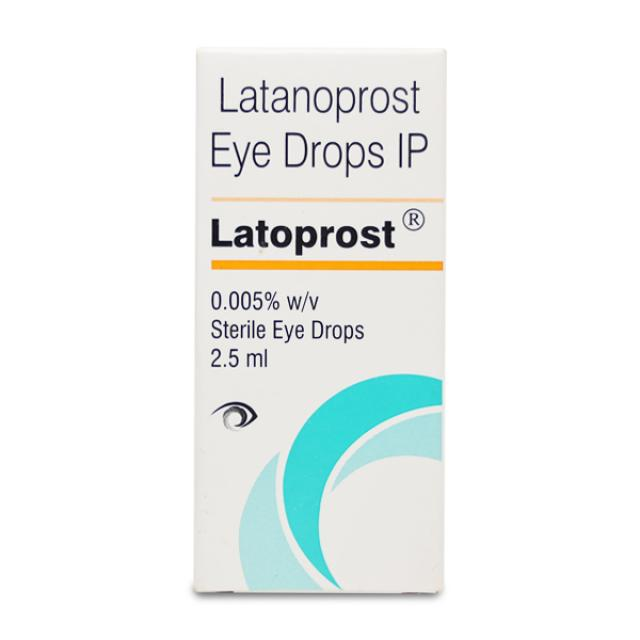Medicine-name: (209, 72, 438, 186)
